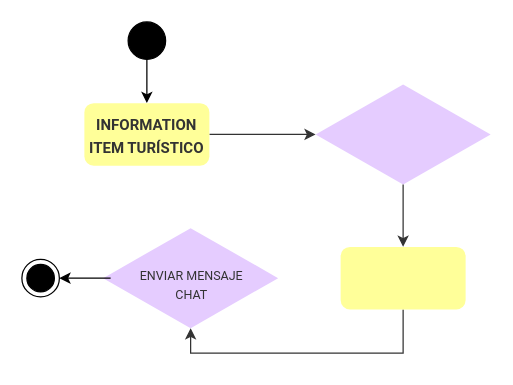
Image size: 513x385. Some labels were removed from this diagram. The shapes that lost their labels are listed below. From the top down, each one's box as (x1, y1, x2, y2) in pixels, then its label:
(315, 84, 490, 184): PULSA BOTÓN SECCIÓN "CHAT"
(340, 246, 465, 309): CHAT ITEM TURÍSTICO
